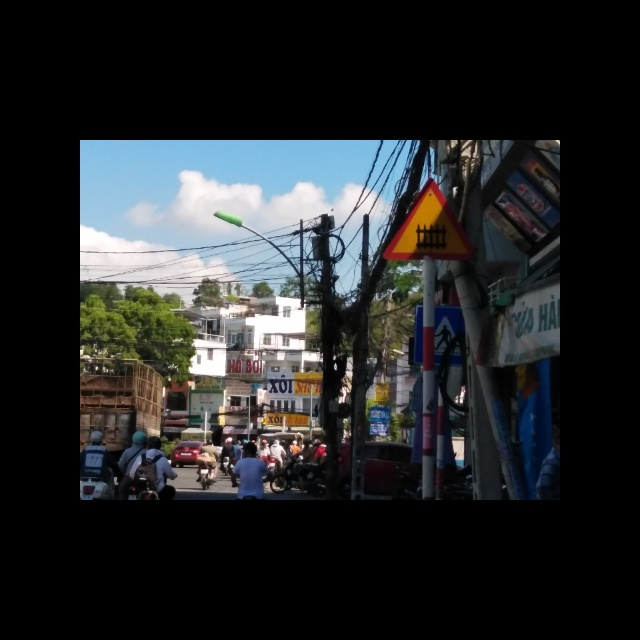Giao nhau với đường sắt có rào chắn: (381, 178, 473, 260)
